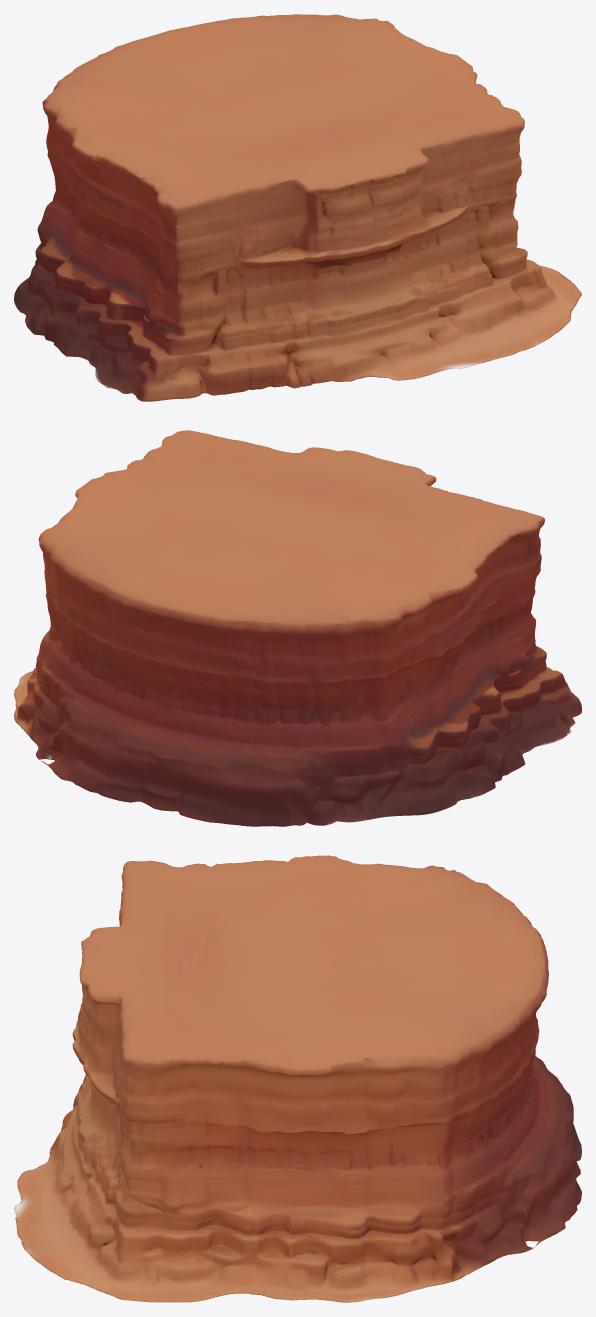
Rendered from base_basic_shaded.fbx.
3 renders of one model, top to bottom at view 1: azimuth 30°, elevation 25°; view 2: azimuth 150°, elevation 25°; view 3: azimuth 270°, elevation 25°, orthographic. The views are drawn at different scales.
Parts seen in each view (by area): view 1: model; view 2: model; view 3: model.
Boxes of the visible parts, left/top/right/bottom form: model: left=14, top=14, right=581, bottom=401; model: left=14, top=430, right=581, bottom=826; model: left=14, top=855, right=581, bottom=1302.
Size of the model in its own units: 186 by 72.57 by 174.
